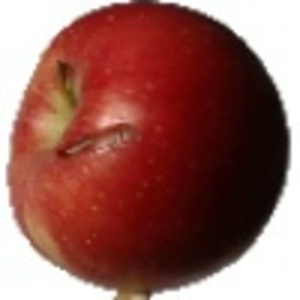maçã braeburn: (5, 1, 289, 291)
